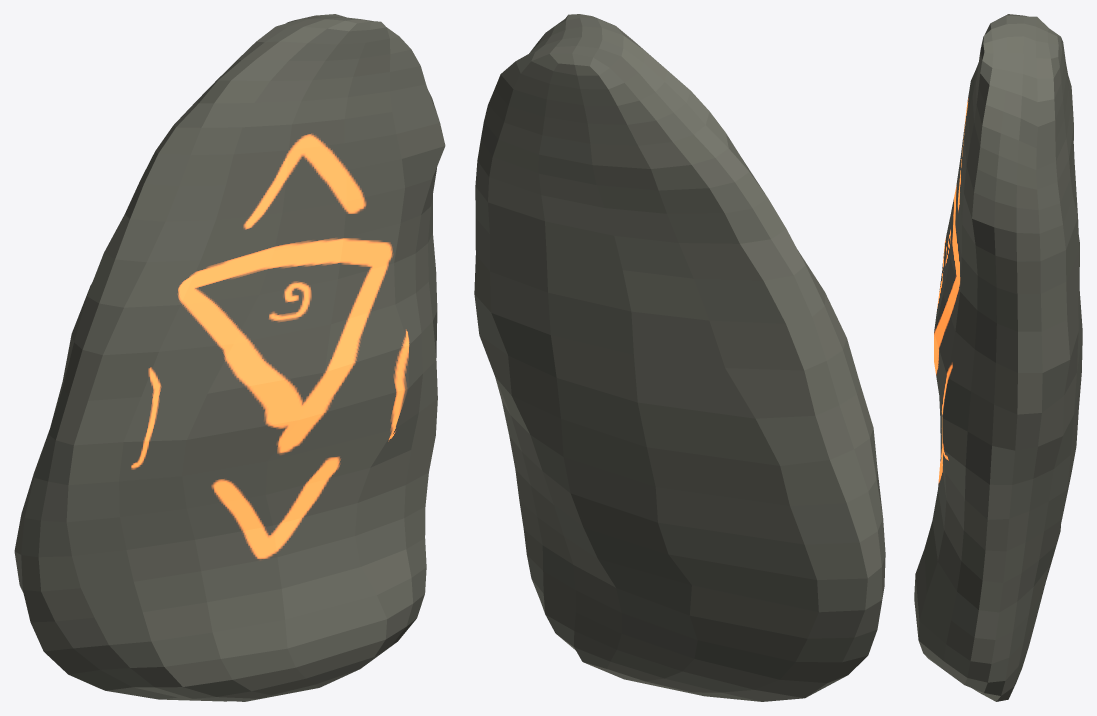
The model's file is IgnisTablet.fbx.
The picture shows the model from 3 angles, left to right: view 1: azimuth 30°, elevation 25°; view 2: azimuth 150°, elevation 25°; view 3: azimuth 270°, elevation 25°; orthographic projection. The views are drawn at different scales.
Visible parts, largest first — view 1: IgnisTablet; view 2: IgnisTablet; view 3: IgnisTablet.
Part boxes in pixels (<box>): IgnisTablet: <box>14,14,445,701</box>; IgnisTablet: <box>474,14,885,701</box>; IgnisTablet: <box>914,14,1082,701</box>.
Bounding box in the file's own units: 449 × 689 × 155.
